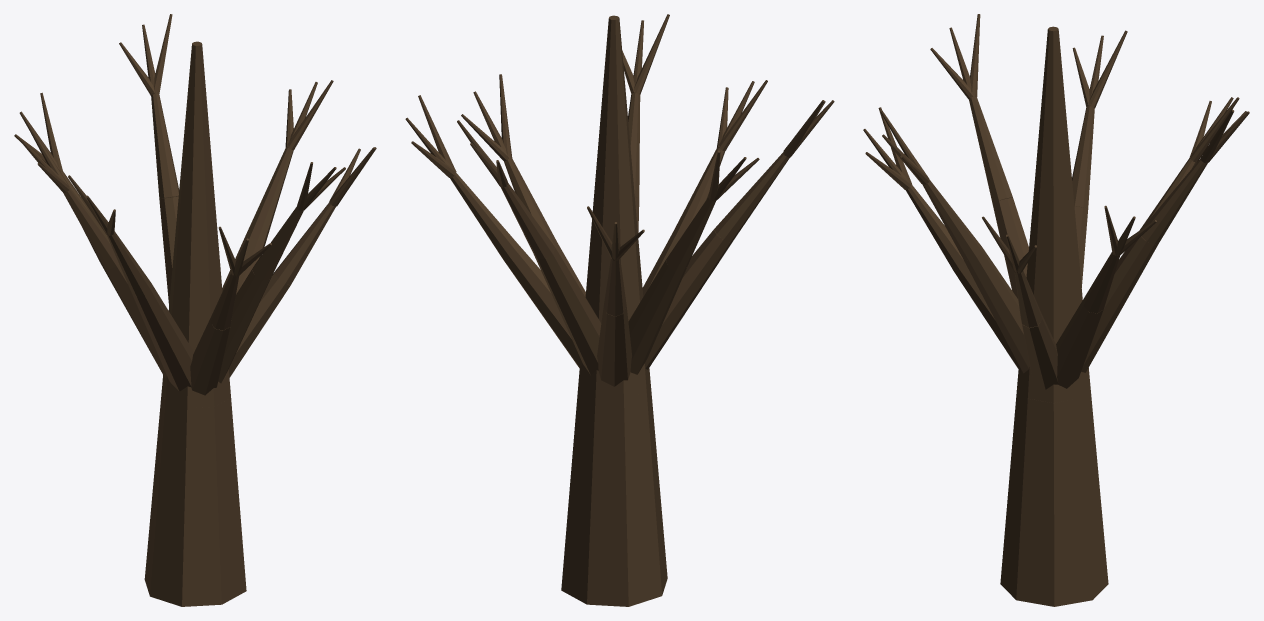
The model's file is oak_mature_winter.glb.
3 views of the same model, side by side, from view 1: azimuth 30°, elevation 25°; view 2: azimuth 150°, elevation 25°; view 3: azimuth 270°, elevation 25° (orthographic). The views are drawn at different scales.
Parts seen in each view (by area): view 1: oak_mature_winter; view 2: oak_mature_winter; view 3: oak_mature_winter.
Part boxes in pixels (x1,y1,x2,y2): oak_mature_winter: (14,14,376,606); oak_mature_winter: (405,14,834,606); oak_mature_winter: (863,14,1249,606).
Size of the model in its own units: 10.32 by 16.32 by 10.29.
